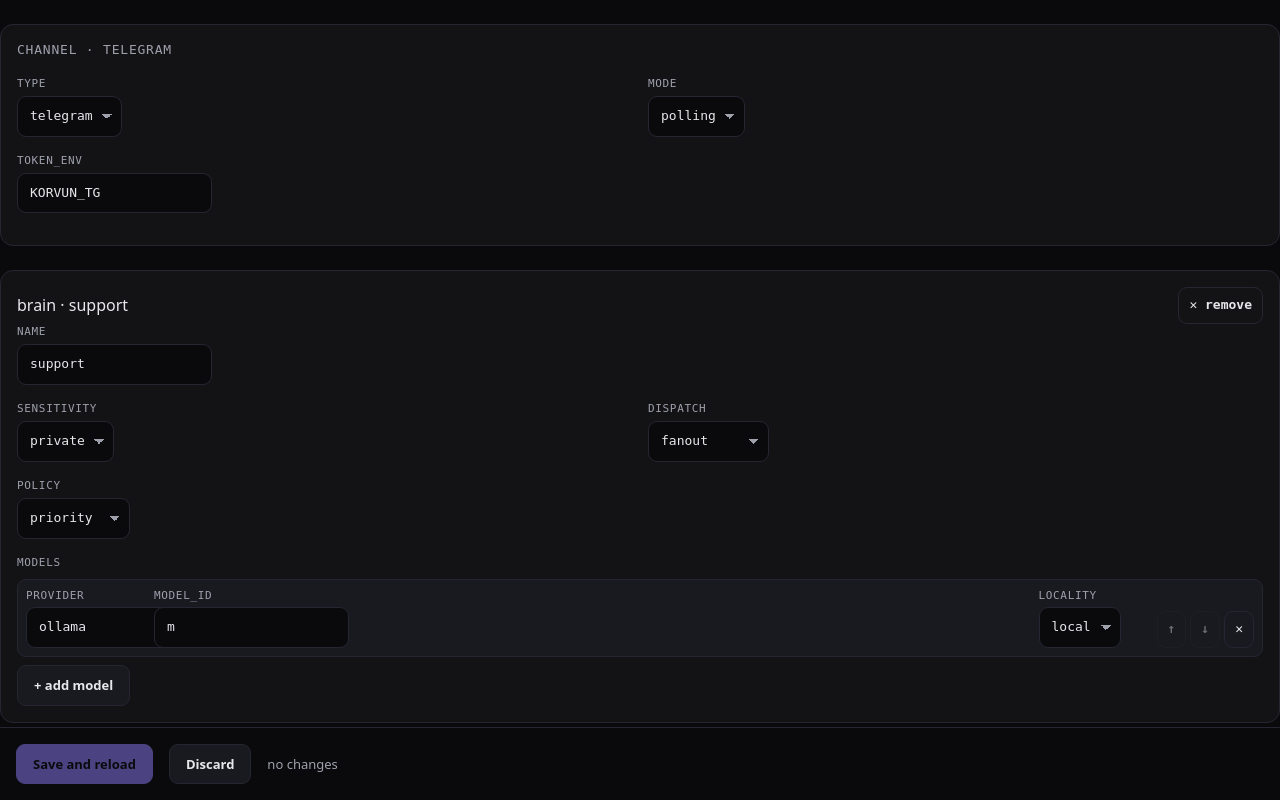
ConfigEditor — error/edge states (2b.2c) › 400 validation is shown AT the field the server named
The width and height of the screenshot is (1280, 800).
Replace the text in the field labelled "name" with "x" at (114, 365), box [17, 344, 212, 385]
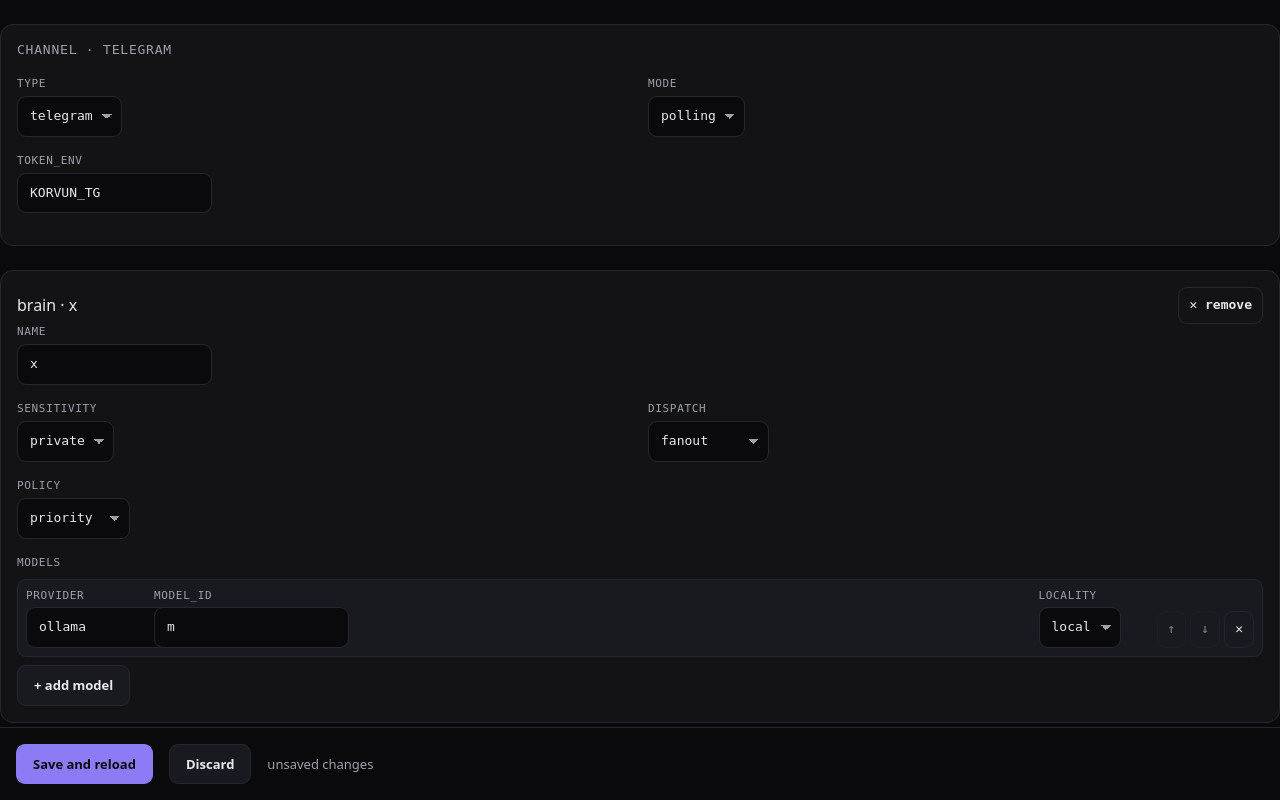
Click the button "Save and reload" at (84, 764), box [16, 743, 153, 784]
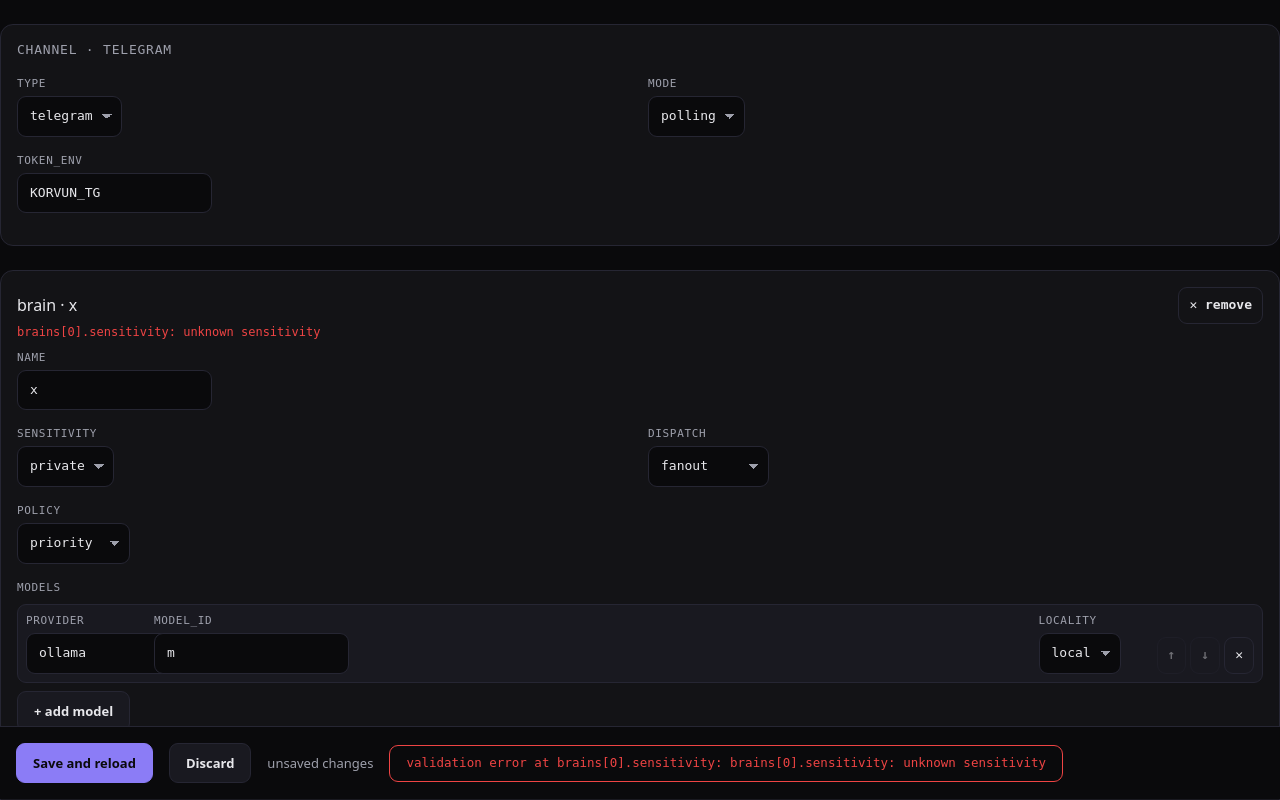
Result: the message with test id "brain-error-0" shows "sensitivity" at [17, 325, 320, 339]
